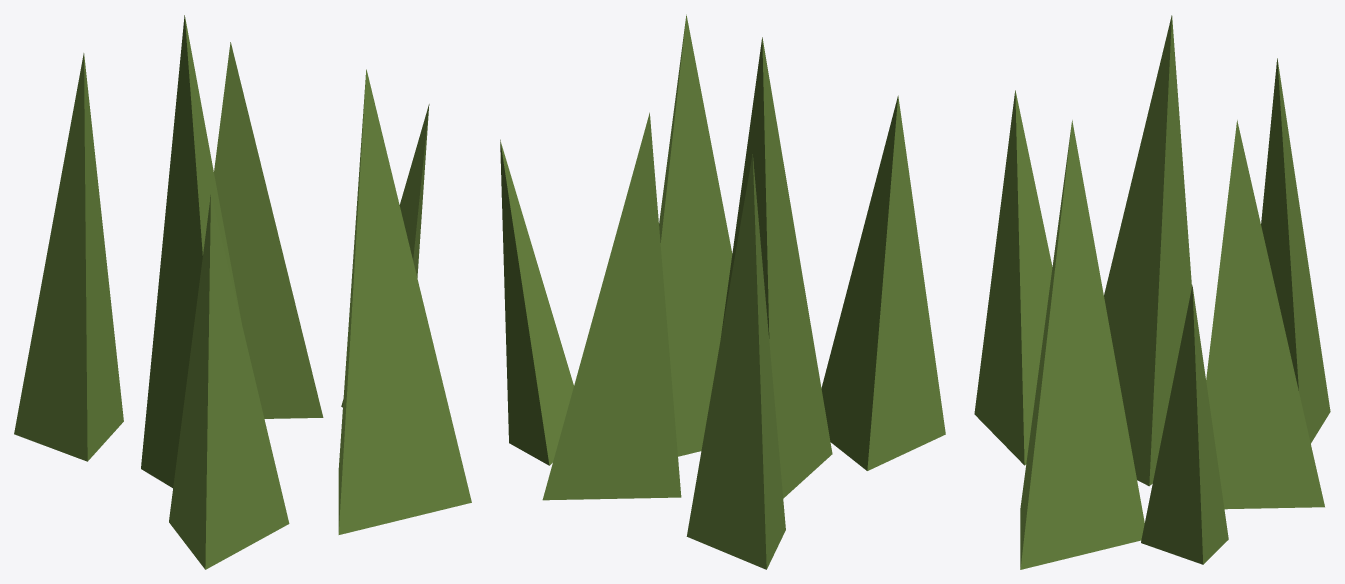
The model's file is grass_4.fbx.
3 renders of one model, left to right at view 1: azimuth 30°, elevation 25°; view 2: azimuth 150°, elevation 25°; view 3: azimuth 270°, elevation 25°, orthographic. The views are drawn at different scales.
Parts seen in each view (by area): view 1: Grass_04; view 2: Grass_04; view 3: Grass_04.
Part boxes in pixels (x1,y1,x2,y2): Grass_04: (14,15,471,569); Grass_04: (500,14,945,569); Grass_04: (974,15,1330,569).
Size of the model in its own units: 144 by 194 by 136.
Materials: 1 (1 with a texture image).
